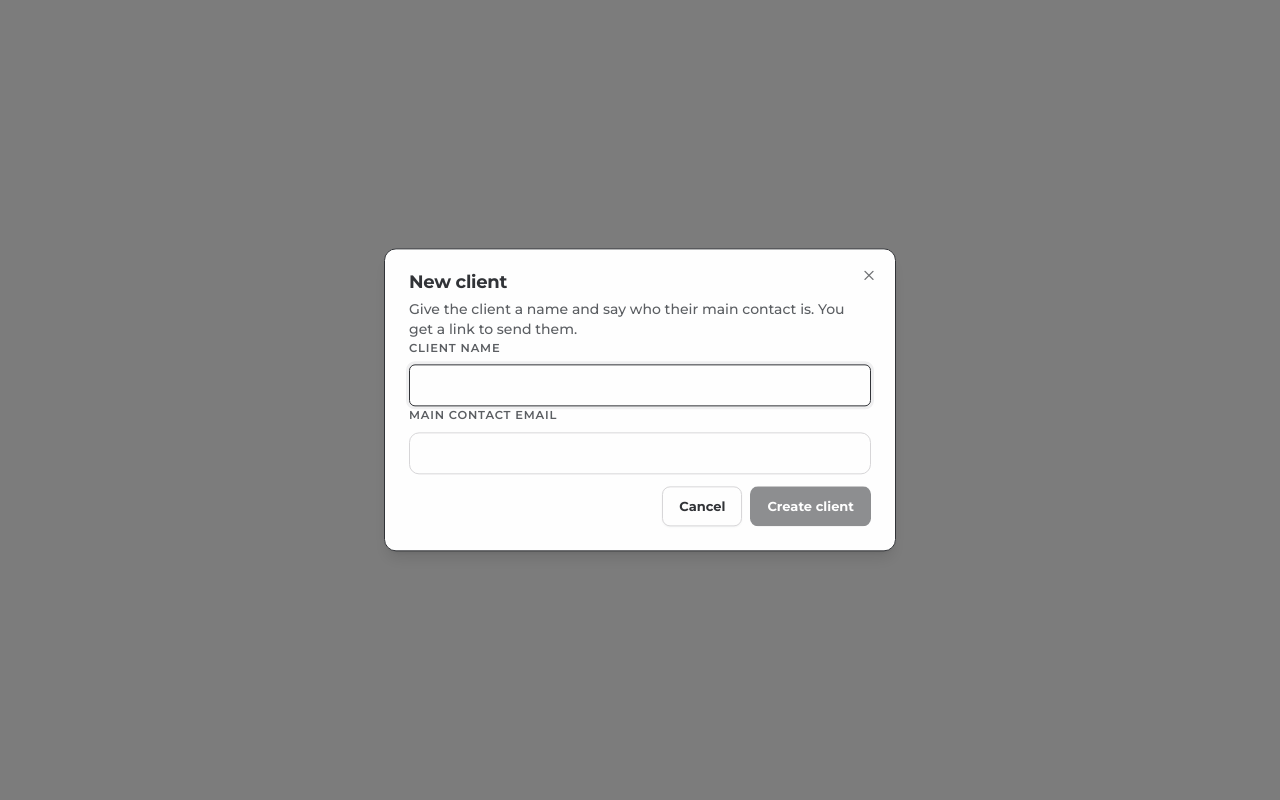
Test case: New client dialog › shows the server's message when the email is already used (409), and stays open to fix it
In the field labelled "Client name": (640, 386) [409,365,871,407], type "Bakery"
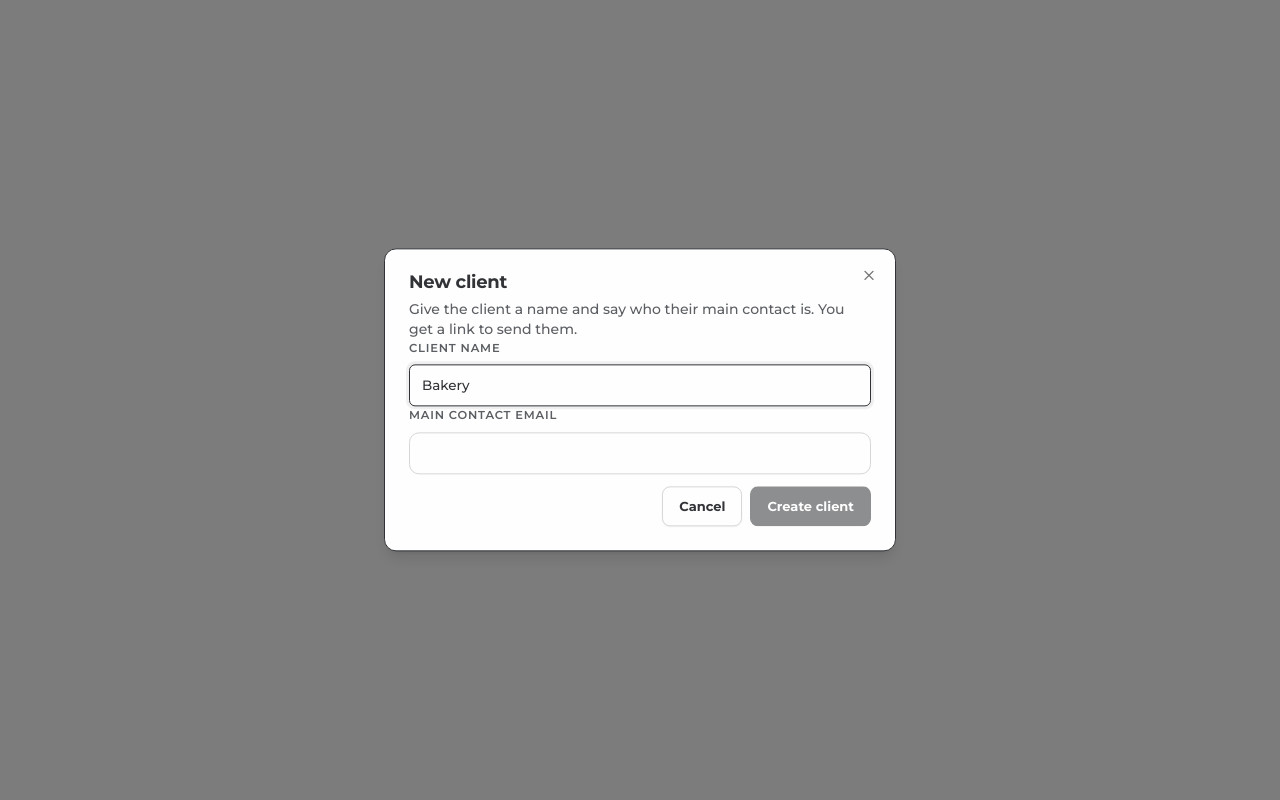
In the field labelled "Main contact email": (640, 453) [409,432,871,474], type "taken@example.com"
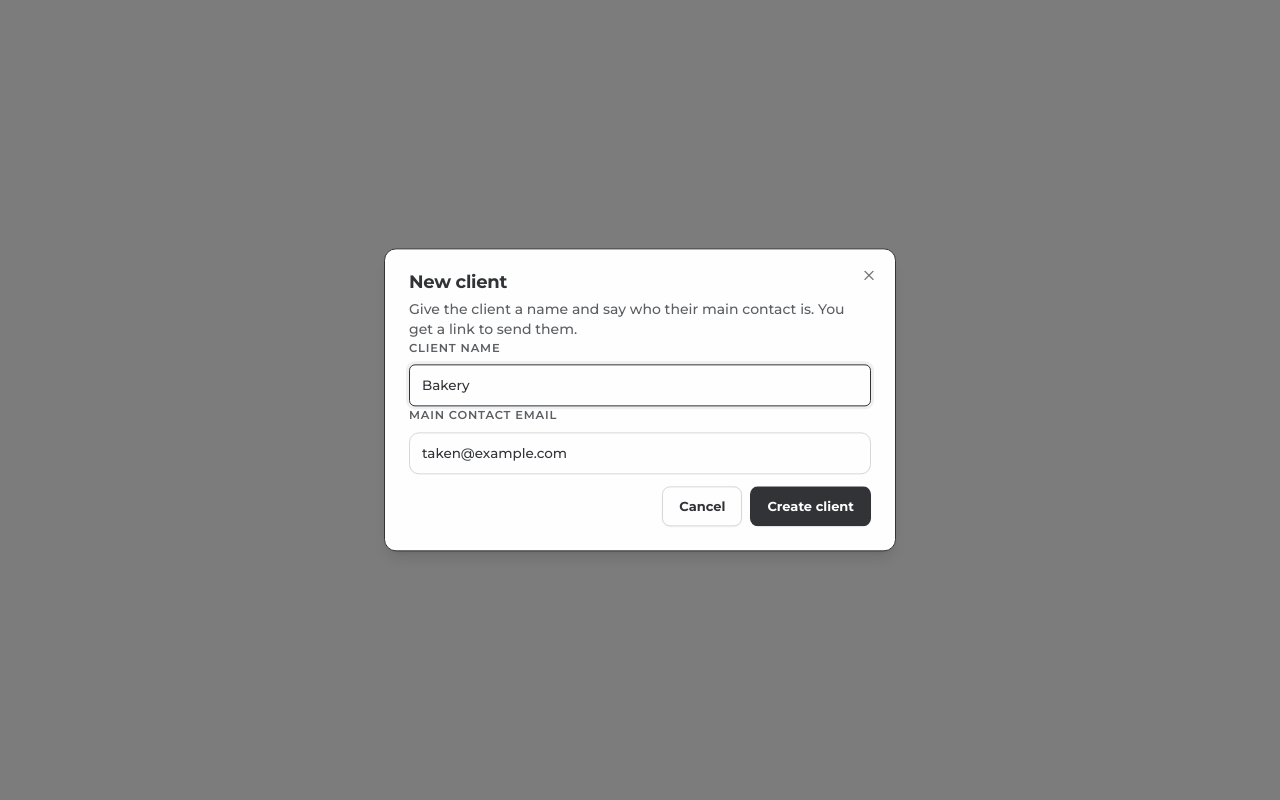
Click the button "Create client": (811, 507) [750,487,871,527]
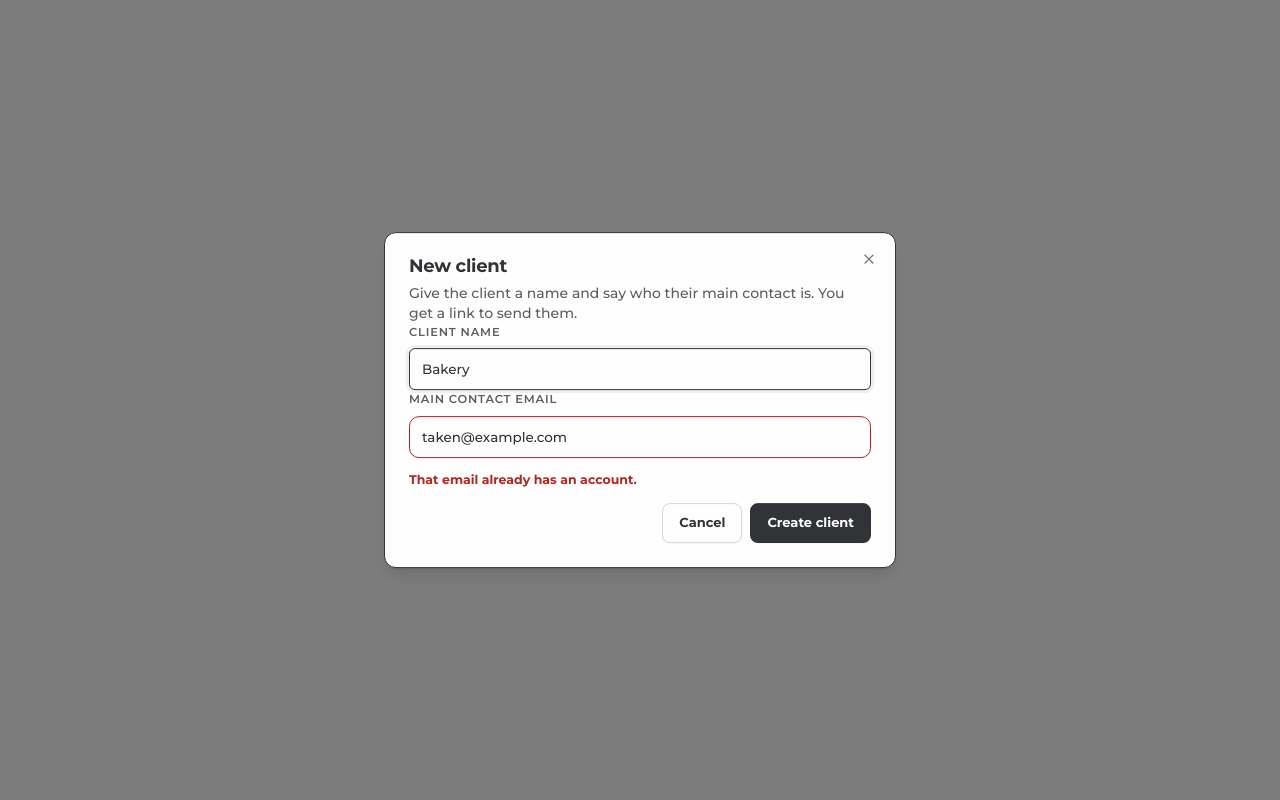
Expected: the button "Create client" is enabled, [750,503,871,543]
Expected: the message reads "That email already has an account.", [409,472,637,487]
